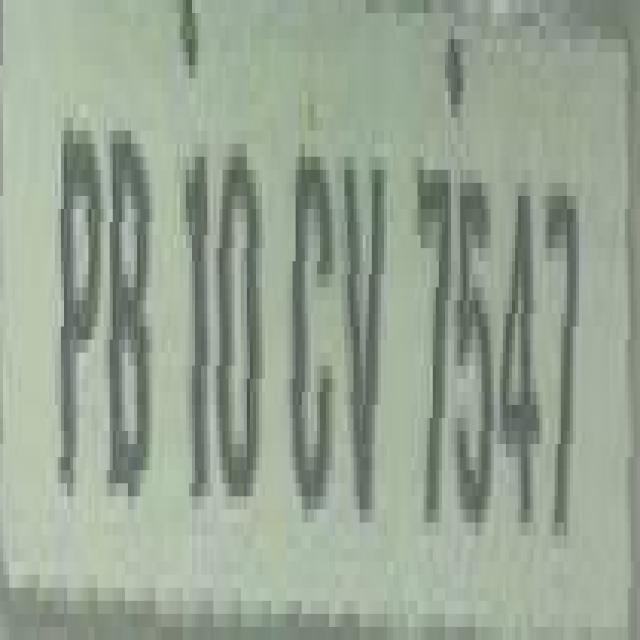license_plate: (0, 26, 613, 640)
